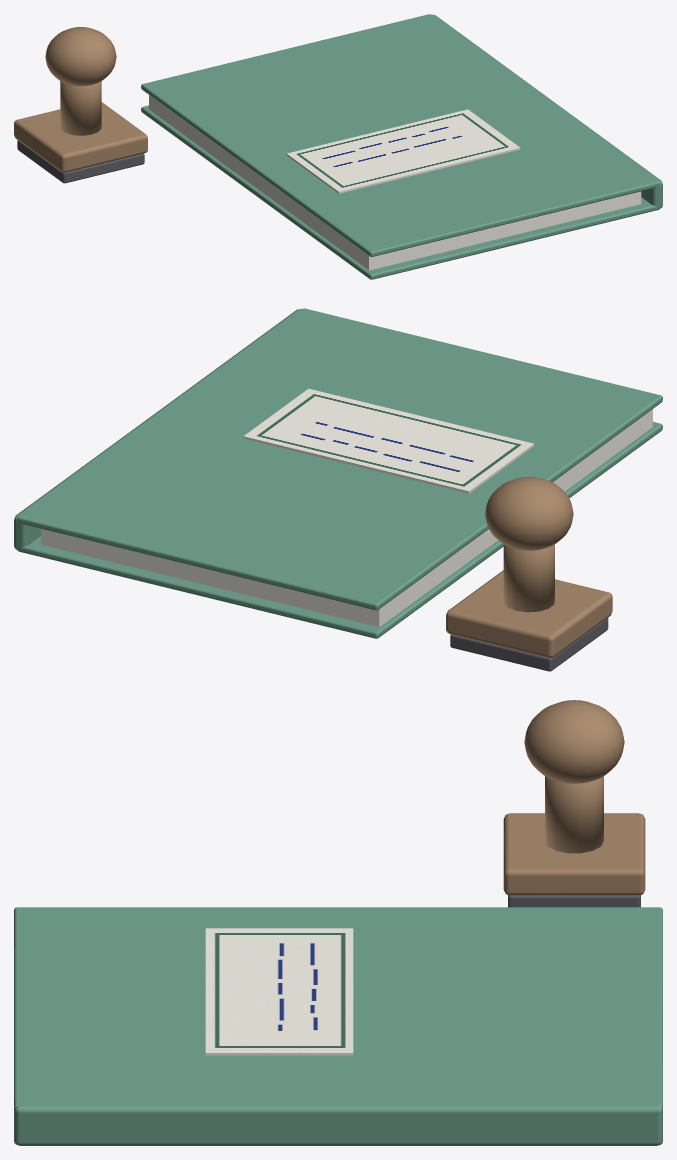
The model's file is escena.casa.acta_centro.fbx.
The picture shows the model from 3 angles, top to bottom: view 1: azimuth 30°, elevation 25°; view 2: azimuth 150°, elevation 25°; view 3: azimuth 270°, elevation 25°; orthographic projection. The views are drawn at different scales.
Visible parts, largest first — view 1: Tapa de arriba, Etiqueta, Hojas, Base del timbre, Tapa de abajo, Perilla del timbre, Mango del timbre, Goma del timbre, Lomo; view 2: Tapa de arriba, Etiqueta, Hojas, Base del timbre, Tapa de abajo, Perilla del timbre, Mango del timbre, Goma del timbre, Lomo; view 3: Tapa de arriba, Lomo, Etiqueta, Base del timbre, Perilla del timbre, Mango del timbre, Goma del timbre.
Boxes of the visible parts, x1=… form: Tapa de arriba: x1=141, y1=14, x2=660, y2=256; Etiqueta: x1=286, y1=109, x2=520, y2=193; Hojas: x1=149, y1=95, x2=641, y2=270; Base del timbre: x1=14, y1=102, x2=147, y2=172; Tapa de abajo: x1=141, y1=105, x2=659, y2=279; Perilla del timbre: x1=45, y1=27, x2=116, y2=86; Mango del timbre: x1=60, y1=81, x2=101, y2=135; Goma del timbre: x1=17, y1=140, x2=144, y2=183; Lomo: x1=431, y1=14, x2=662, y2=208; Tapa de arriba: x1=17, y1=308, x2=662, y2=610; Etiqueta: x1=243, y1=388, x2=534, y2=493; Hojas: x1=41, y1=409, x2=652, y2=627; Base del timbre: x1=446, y1=570, x2=612, y2=657; Tapa de abajo: x1=17, y1=422, x2=662, y2=638; Perilla del timbre: x1=485, y1=477, x2=573, y2=550; Mango del timbre: x1=503, y1=544, x2=554, y2=612; Goma del timbre: x1=450, y1=618, x2=608, y2=671; Lomo: x1=14, y1=309, x2=302, y2=550; Tapa de arriba: x1=14, y1=907, x2=662, y2=1109; Lomo: x1=14, y1=1104, x2=662, y2=1145; Etiqueta: x1=205, y1=928, x2=353, y2=1055; Base del timbre: x1=503, y1=813, x2=645, y2=895; Perilla del timbre: x1=524, y1=700, x2=624, y2=783; Mango del timbre: x1=545, y1=776, x2=603, y2=853; Goma del timbre: x1=508, y1=895, x2=640, y2=907.
Size of the model in its own units: 0.236 by 0.0666 by 0.22.
Materials: 5 (1 with a texture image).
